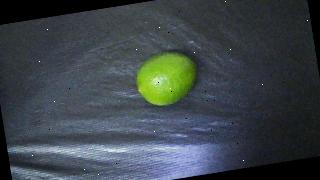LOCAL: (133, 48, 202, 109)
